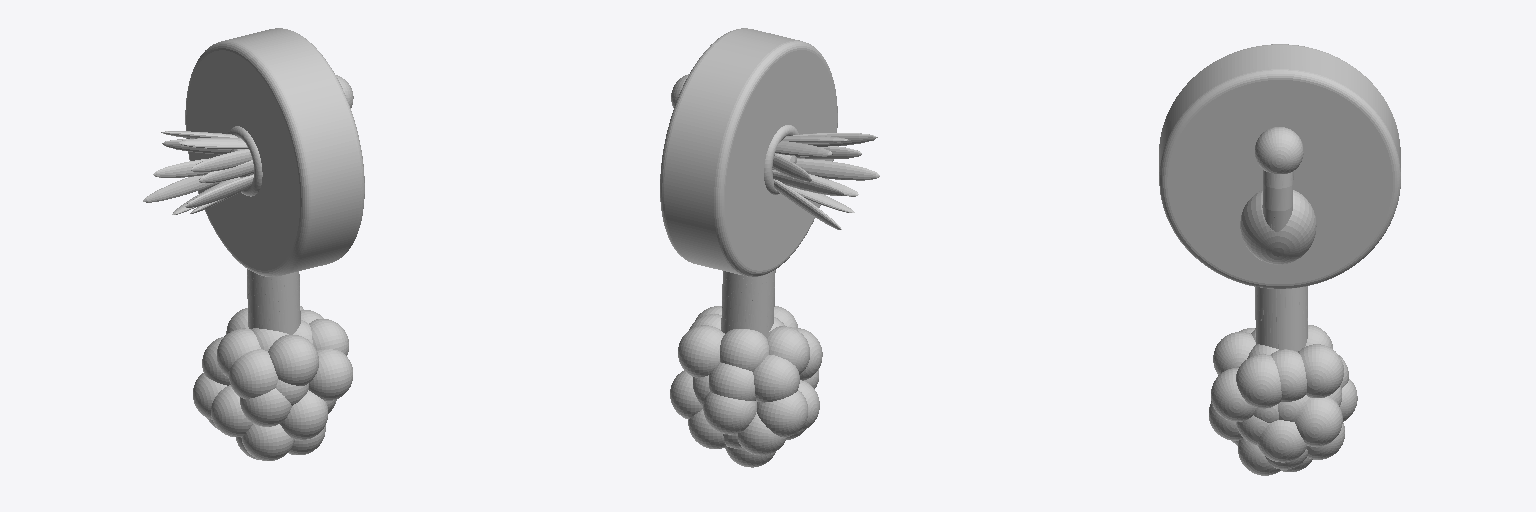
Rendered from PLUMBUS.obj.
3 views of the same model, side by side, from view 1: azimuth 30°, elevation 25°; view 2: azimuth 150°, elevation 25°; view 3: azimuth 270°, elevation 25° (orthographic).
Parts seen in each view (by area): view 1: Plumbis_V2.2_Fixed; view 2: Plumbis_V2.2_Fixed; view 3: Plumbis_V2.2_Fixed.
Part boxes in pixels (x1,y1,x2,y2): Plumbis_V2.2_Fixed: (143, 28, 364, 460); Plumbis_V2.2_Fixed: (660, 28, 879, 467); Plumbis_V2.2_Fixed: (1159, 44, 1400, 475).
Size of the model in its own units: 2.19 by 4.63 by 2.44.